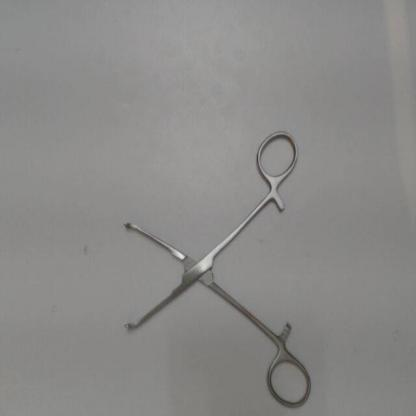Allis Tissue Forceps: (120, 124, 316, 411)
